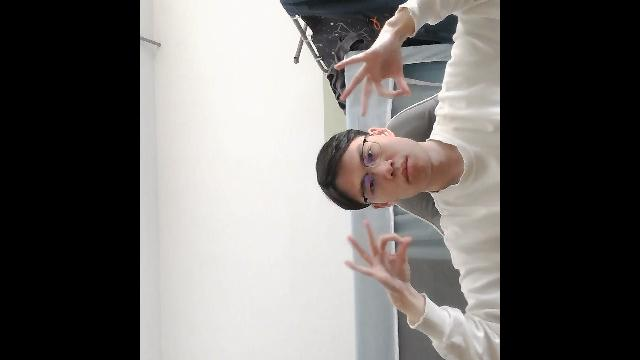ok: (331, 25, 411, 119), (342, 216, 418, 308)
